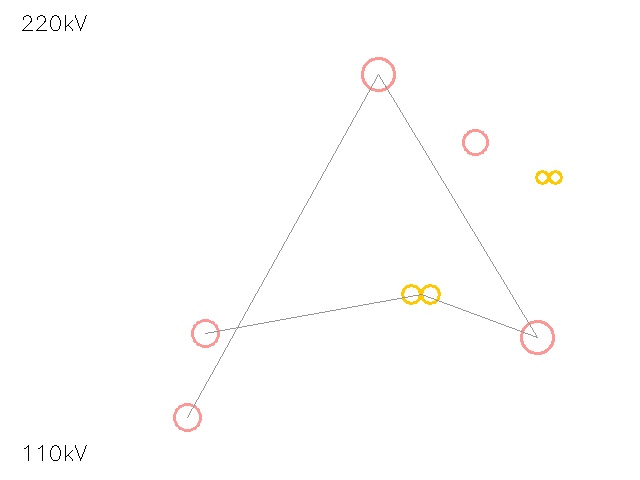disconnect_switch: (505, 305, 569, 369)
load_break_switch: (346, 42, 410, 106), (179, 307, 231, 359), (450, 117, 500, 167)
transformer_2w: (398, 271, 444, 317), (533, 161, 565, 193)
voltage_transformer: (161, 391, 213, 443)
